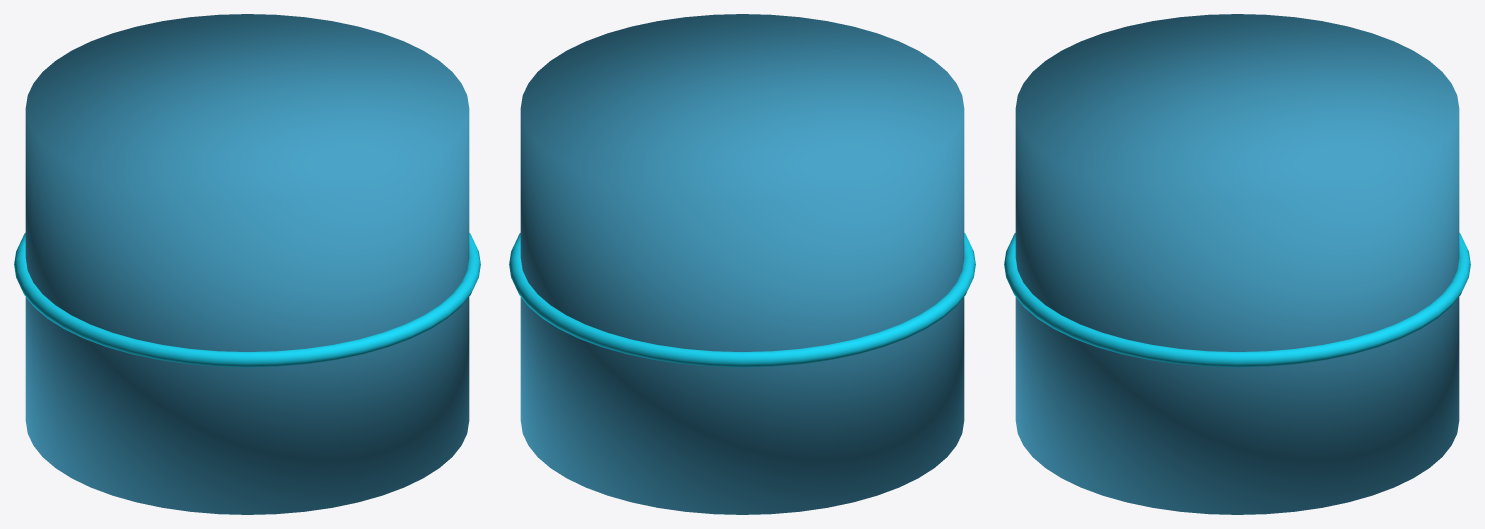
The model's file is 08_L93_PristineSampleVaultInspectionGlass.fbx.
3 views of the same model, side by side, from view 1: azimuth 30°, elevation 25°; view 2: azimuth 150°, elevation 25°; view 3: azimuth 270°, elevation 25° (orthographic).
Parts seen in each view (by area): view 1: L92_PristineSampleVaultInspectionGlass_Part_0000, L92_PristineSampleVaultInspectionGlass_Part_0001; view 2: L92_PristineSampleVaultInspectionGlass_Part_0000, L92_PristineSampleVaultInspectionGlass_Part_0001; view 3: L92_PristineSampleVaultInspectionGlass_Part_0000, L92_PristineSampleVaultInspectionGlass_Part_0001.
Boxes of the visible parts, <box> form: L92_PristineSampleVaultInspectionGlass_Part_0000: <box>25,14,469,514</box>; L92_PristineSampleVaultInspectionGlass_Part_0001: <box>14,233,480,367</box>; L92_PristineSampleVaultInspectionGlass_Part_0000: <box>520,14,964,514</box>; L92_PristineSampleVaultInspectionGlass_Part_0001: <box>509,233,975,367</box>; L92_PristineSampleVaultInspectionGlass_Part_0000: <box>1015,14,1459,514</box>; L92_PristineSampleVaultInspectionGlass_Part_0001: <box>1004,233,1470,367</box>.
Size of the model in its own units: 398 by 295 by 398.
